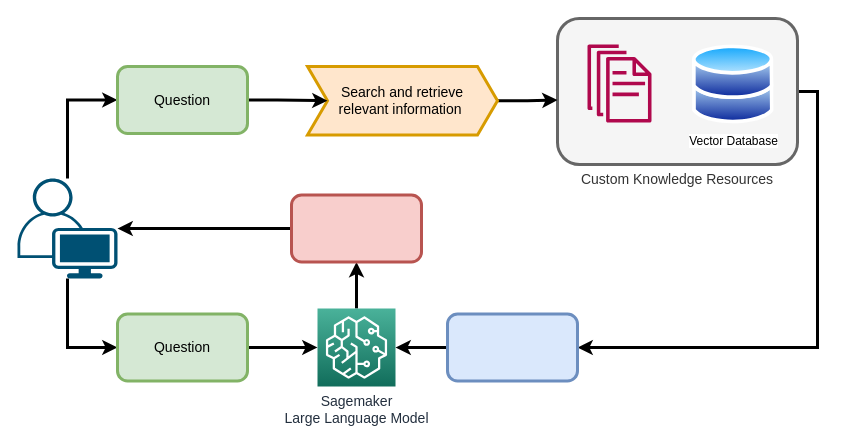
Image size: 844x445. Some labels were removed from this diagram. Each missing label, with the centre of its shape:
Answer: the point at 356,228
AWS FAQs: the point at 619,83
Relevant documents: the point at 512,347
